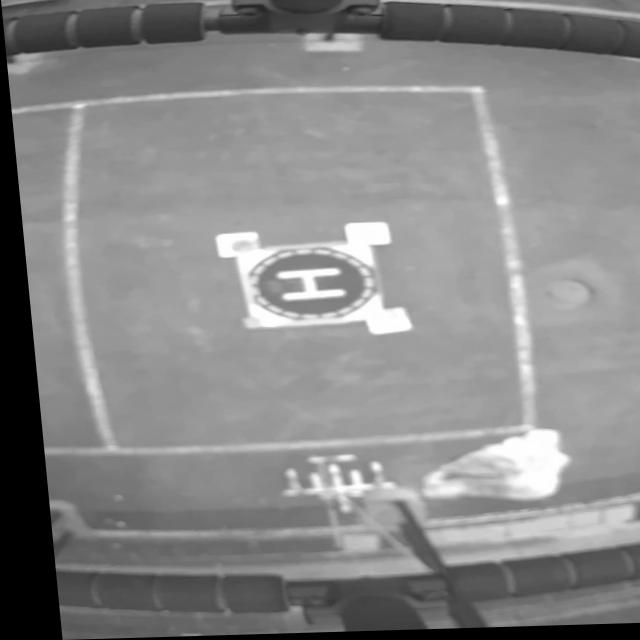Helipad: (266, 269, 339, 303)
